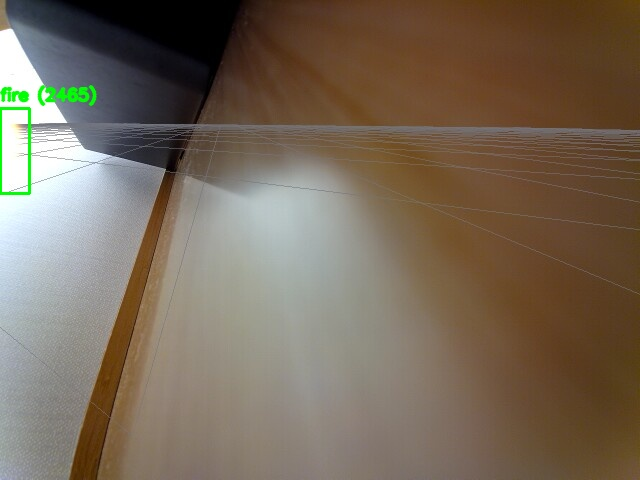fire: (0, 108, 29, 193)
